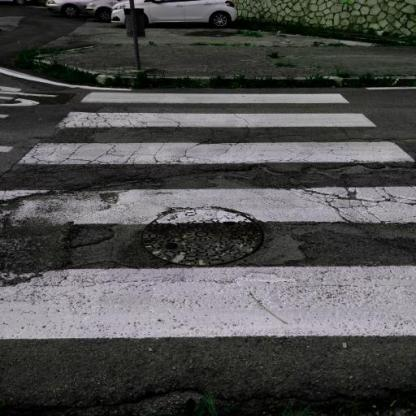crosswalk: (1, 183, 416, 347), (15, 109, 416, 170)
